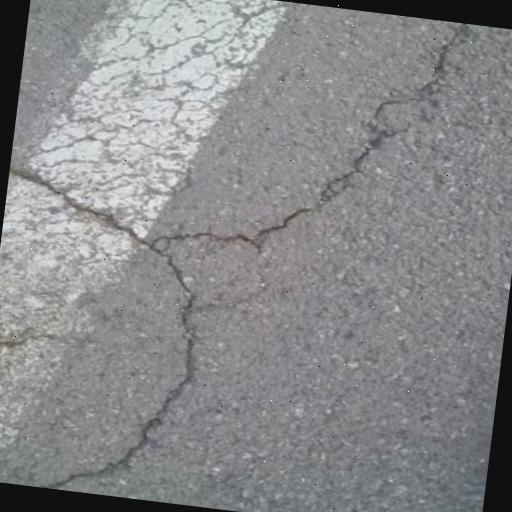spalling: (149, 24, 477, 271), (16, 153, 206, 493)
